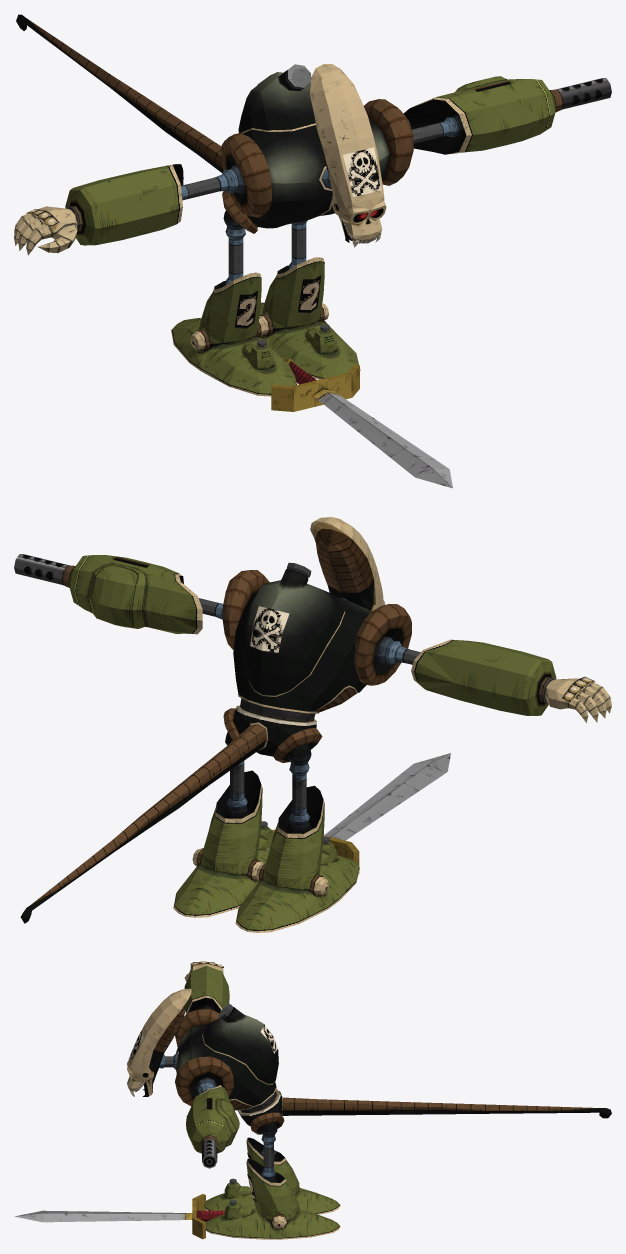
Rendered from crimson-guard-highres-lod0.glb.
3 renders of one model, top to bottom at view 1: azimuth 30°, elevation 25°; view 2: azimuth 150°, elevation 25°; view 3: azimuth 270°, elevation 25°, orthographic. The views are drawn at different scales.
Parts seen in each view (by area): view 1: mesh0000; view 2: mesh0000; view 3: mesh0000.
Part boxes in pixels (left/top/right/bottom): mesh0000: left=14, top=14, right=611, bottom=488; mesh0000: left=14, top=517, right=611, bottom=932; mesh0000: left=14, top=961, right=611, bottom=1239.
Size of the model in its own units: 9.25 by 5.1 by 11.81.
Materials: 1 (1 with a texture image).
